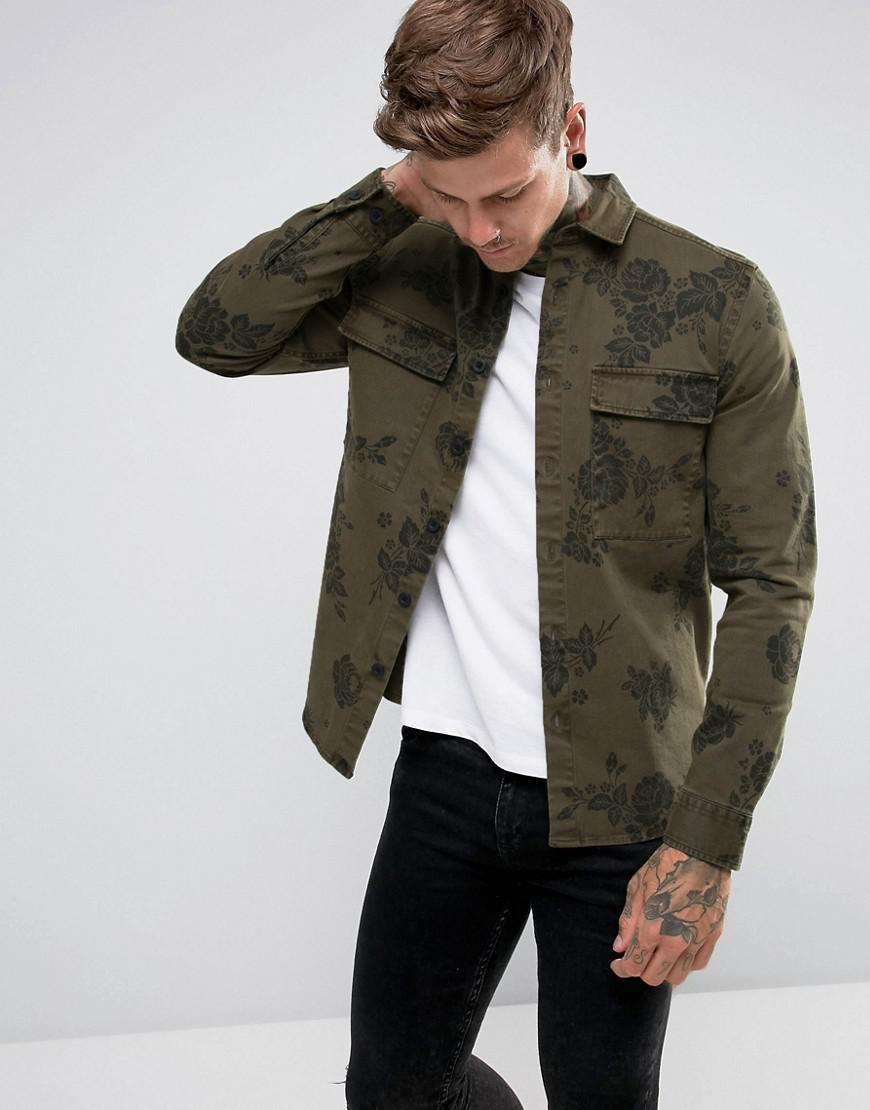teeshirt: (173, 159, 820, 871)
